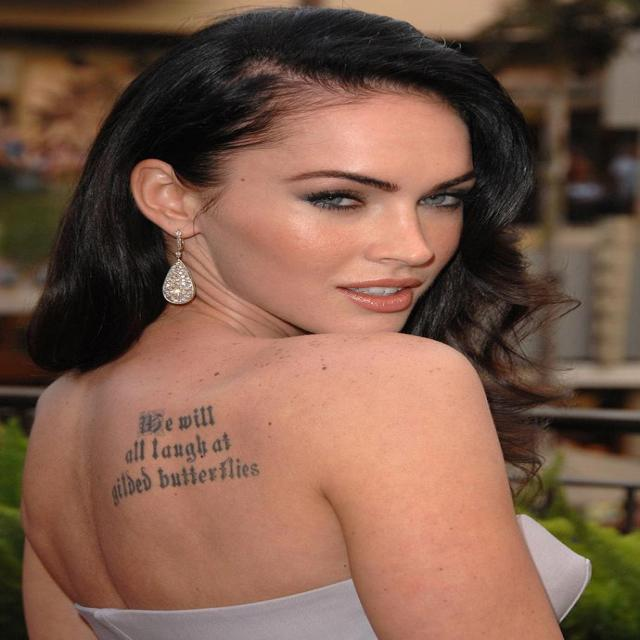no-earmuff: (129, 158, 205, 240)
